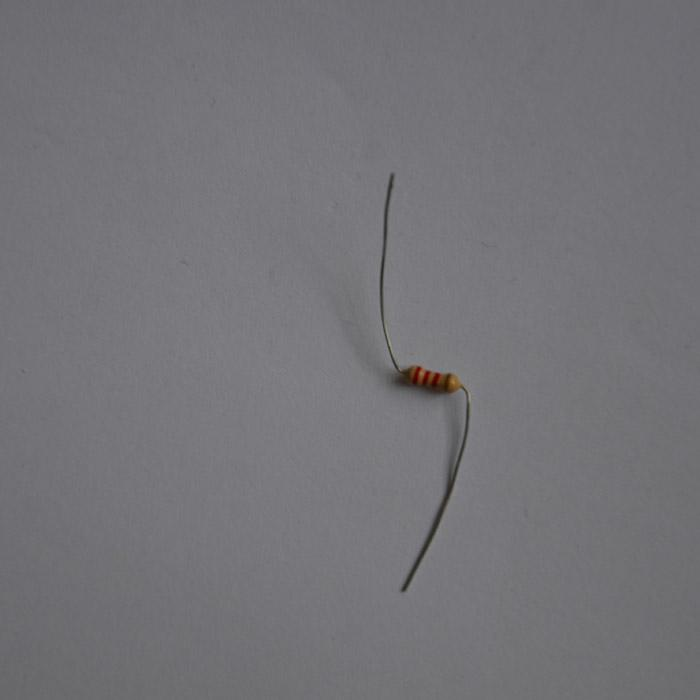resistor: (403, 364, 462, 393)
